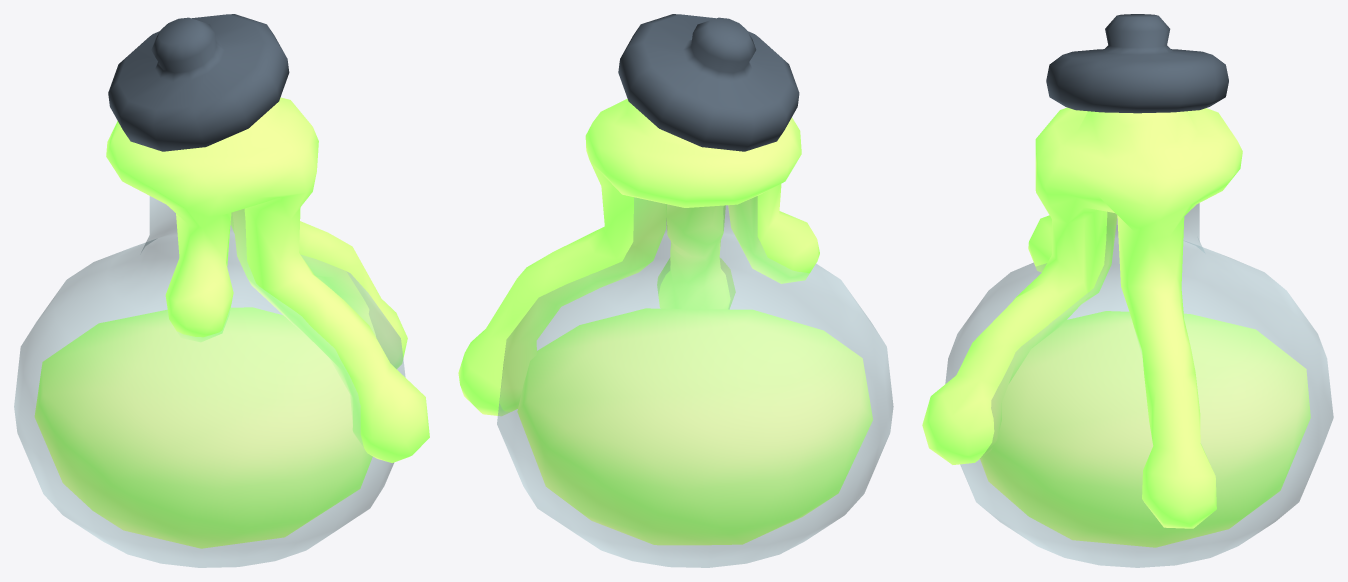
The model's file is CatalizadorSlime.fbx.
3 views of the same model, side by side, from view 1: azimuth 30°, elevation 25°; view 2: azimuth 150°, elevation 25°; view 3: azimuth 270°, elevation 25° (orthographic).
Visible parts, largest first — view 1: CatalizadorSlime_Slime_Neon, CatalizadorSlime_Frasco_Vidrio, CatalizadorSlime_Tapa; view 2: CatalizadorSlime_Slime_Neon, CatalizadorSlime_Frasco_Vidrio, CatalizadorSlime_Tapa; view 3: CatalizadorSlime_Slime_Neon, CatalizadorSlime_Frasco_Vidrio, CatalizadorSlime_Tapa.
Part boxes in pixels (left/top/right/bottom): CatalizadorSlime_Slime_Neon: left=34, top=97, right=429, bottom=548; CatalizadorSlime_Frasco_Vidrio: left=14, top=196, right=405, bottom=567; CatalizadorSlime_Tapa: left=108, top=14, right=289, bottom=151; CatalizadorSlime_Slime_Neon: left=458, top=99, right=872, bottom=545; CatalizadorSlime_Frasco_Vidrio: left=497, top=196, right=893, bottom=567; CatalizadorSlime_Tapa: left=618, top=14, right=799, bottom=151; CatalizadorSlime_Slime_Neon: left=922, top=107, right=1310, bottom=547; CatalizadorSlime_Frasco_Vidrio: left=945, top=203, right=1333, bottom=567; CatalizadorSlime_Tapa: left=1046, top=14, right=1228, bottom=113.
Bounding box in the file's own units: 1.34 × 1.69 × 1.26.
